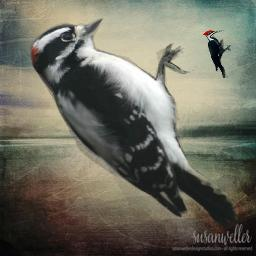Woodpecker: (30, 18, 238, 229), (203, 29, 231, 78)
